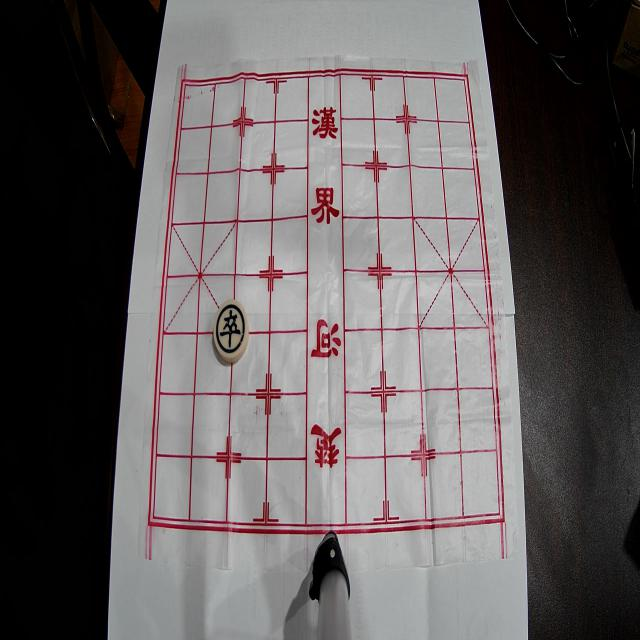black-soldier: (213, 300, 249, 362)
